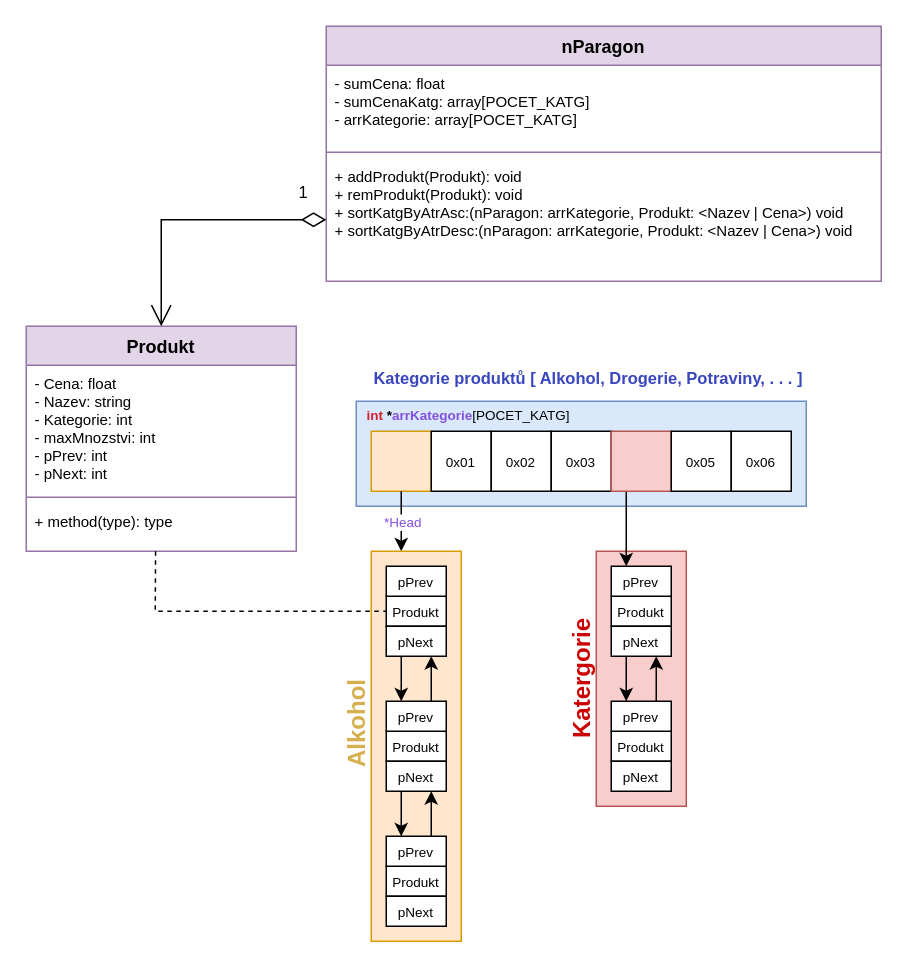
Some shapes in this 908 by 968 pixel diagram are drawn without their labels. Here are the shapes that lost their labels. From the top down, the centre of each, then its label:
(x=400, y=460): 0x00
(x=640, y=460): 0x04
